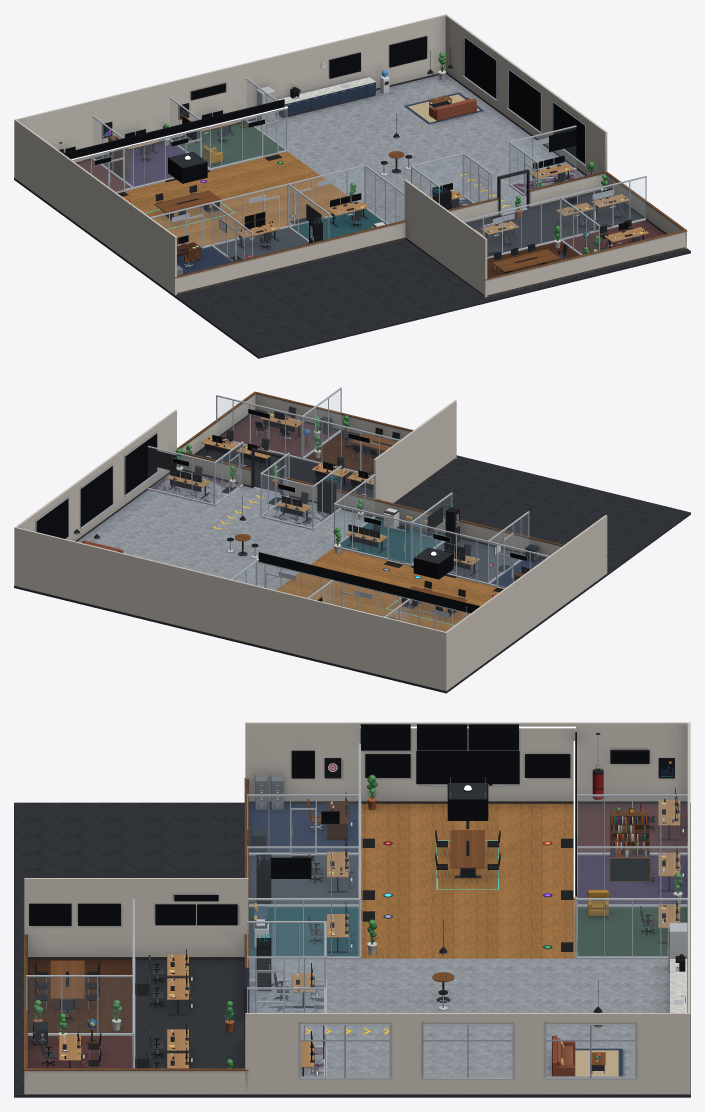
The model's file is office.tex.glb.
3 views of the same model, one above another, from view 1: azimuth 30°, elevation 25°; view 2: azimuth 150°, elevation 25°; view 3: azimuth 270°, elevation 25° (orthographic). The views are drawn at different scales.
Parts seen in each view (by area): view 1: lounge, geo_slab, ext_north, ext_west, bullpen, ext_south, front_back_row, ext_east, inv_west, inv_south, invest_floor, inv_board_north (+38 smaller); view 2: ext_north, lounge, geo_slab, ext_west, bullpen, inv_west, ext_south, ext_east, front_back_row, front_front_row, inv_chair_north, goal_north (+27 smaller); view 3: lounge, bullpen, ext_east, geo_slab, ext_west, inv_west, invest_floor, part_gemma_lounge, inv_east, inv_board_chair, part_nova_gemma, part_vince_alcove (+46 smaller).
Boxes of the visible parts, <box> form: lounge: <box>249,74,585,223</box>; geo_slab: <box>14,177,690,358</box>; ext_north: <box>14,14,446,177</box>; ext_west: <box>14,119,176,294</box>; bullpen: <box>117,151,351,246</box>; ext_south: <box>174,171,605,295</box>; front_back_row: <box>73,108,287,192</box>; ext_east: <box>445,14,607,175</box>; inv_west: <box>404,180,487,296</box>; inv_south: <box>484,230,686,297</box>; invest_floor: <box>467,191,643,253</box>; inv_board_north: <box>462,197,560,258</box>; ext_north: <box>14,527,447,690</box>; lounge: <box>77,471,371,590</box>; geo_slab: <box>14,455,690,693</box>; ext_west: <box>444,515,607,690</box>; bullpen: <box>276,547,503,631</box>; inv_west: <box>373,400,456,503</box>; ext_south: <box>175,451,607,573</box>; ext_east: <box>14,410,176,585</box>; front_back_row: <box>256,560,470,630</box>; front_front_row: <box>411,522,548,588</box>; inv_chair_north: <box>216,395,302,459</box>; goal_north: <box>147,446,214,505</box>; lounge: <box>249,958,669,1076</box>; bullpen: <box>361,803,574,958</box>; ext_east: <box>245,1013,690,1094</box>; geo_slab: <box>14,802,690,1097</box>; ext_west: <box>245,722,687,803</box>; inv_west: <box>24,878,248,959</box>; invest_floor: <box>135,959,244,1068</box>; part_gemma_lounge: <box>576,898,687,959</box>; inv_east: <box>24,1068,248,1094</box>; inv_board_chair: <box>25,975,133,1035</box>; part_nova_gemma: <box>577,846,687,907</box>; part_vince_alcove: <box>247,846,359,907</box>.
Bounding box in the file's own units: 28.16 × 3.76 × 27.56.
137 materials, 23 textured.
